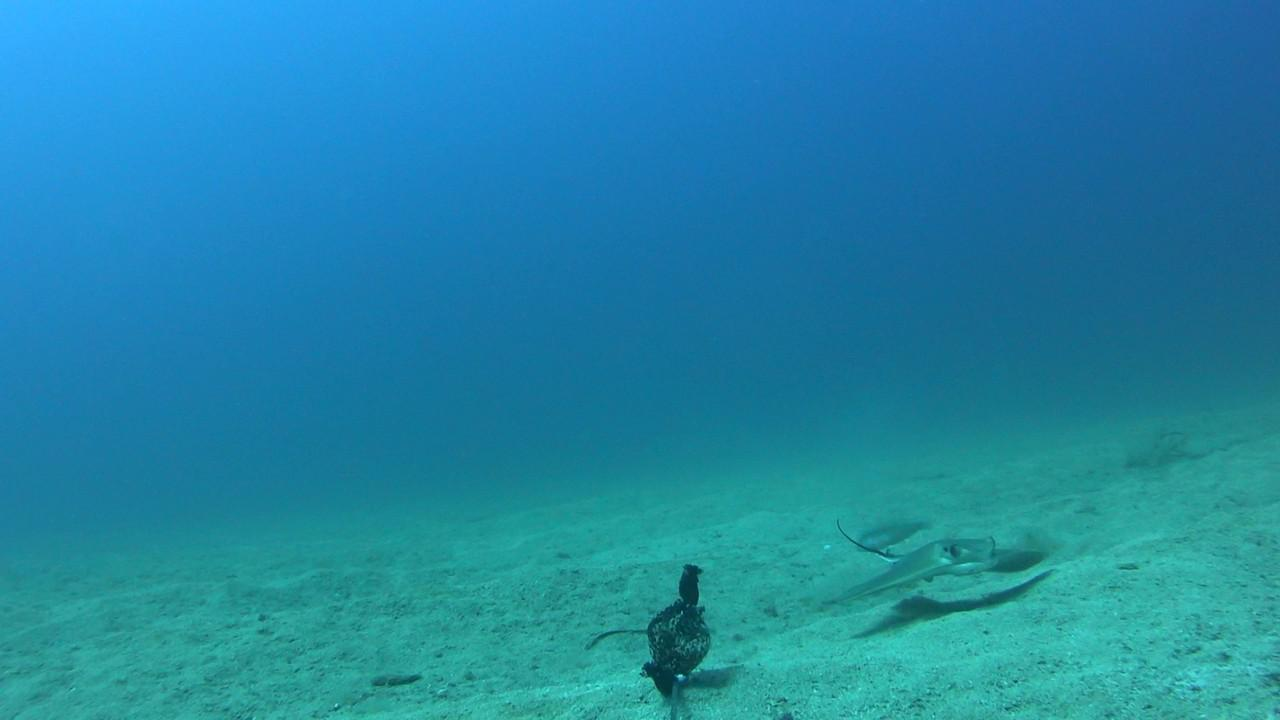myliobatis: (805, 514, 1056, 614)
raor: (856, 514, 938, 552)
